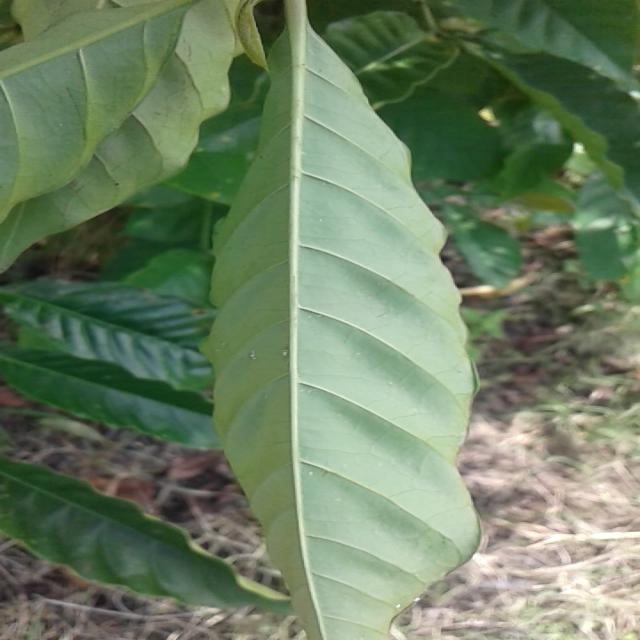Sanas: (199, 0, 479, 640)
